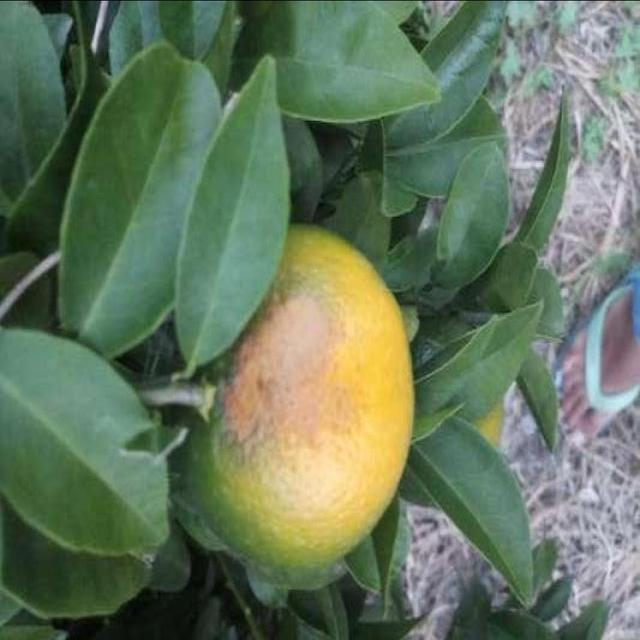Sunscald Fruit: (145, 155, 225, 311)
